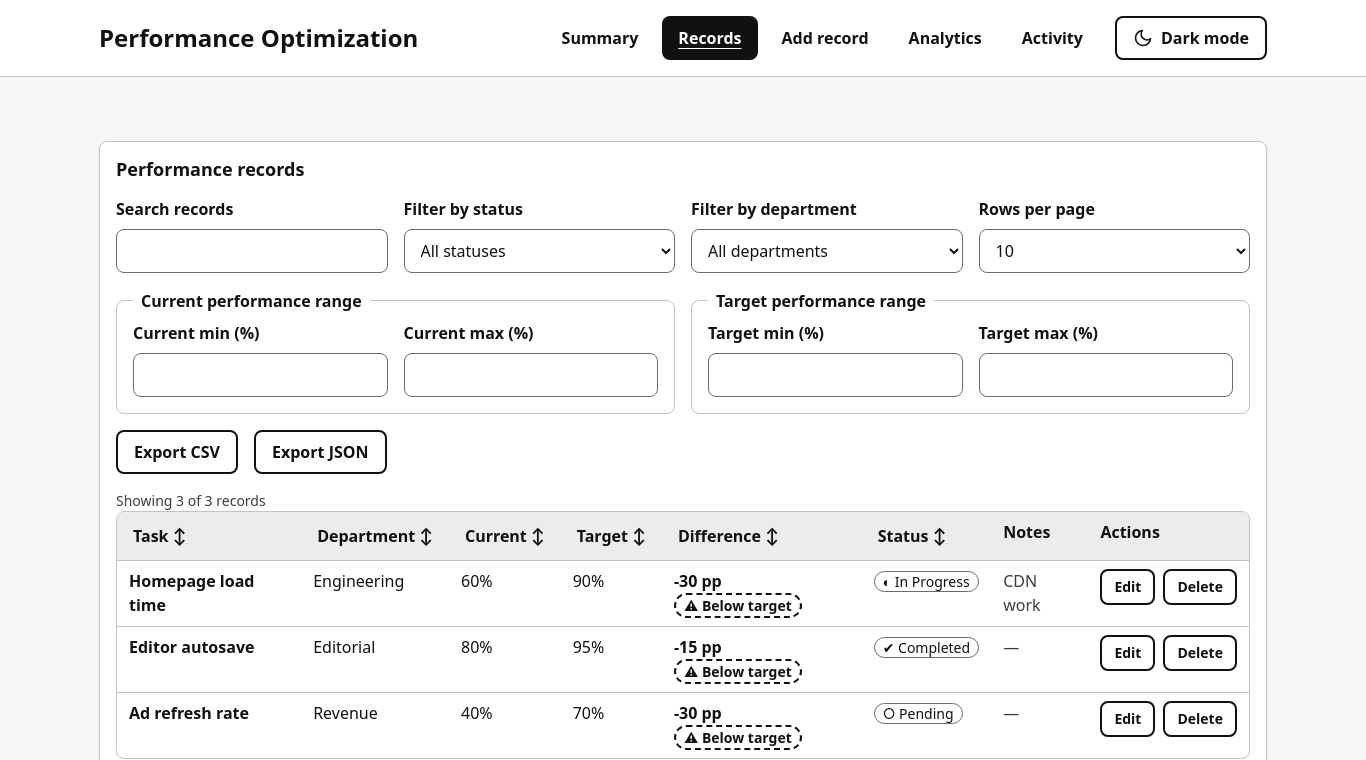
search, filter and sort › searches and shows empty state for no matches
Expected: the column heading "Homepage load time" is shown, [117,560,301,626]
Type "editor" into the search field labelled "Search records" at (252, 250), box [116,228,388,272]
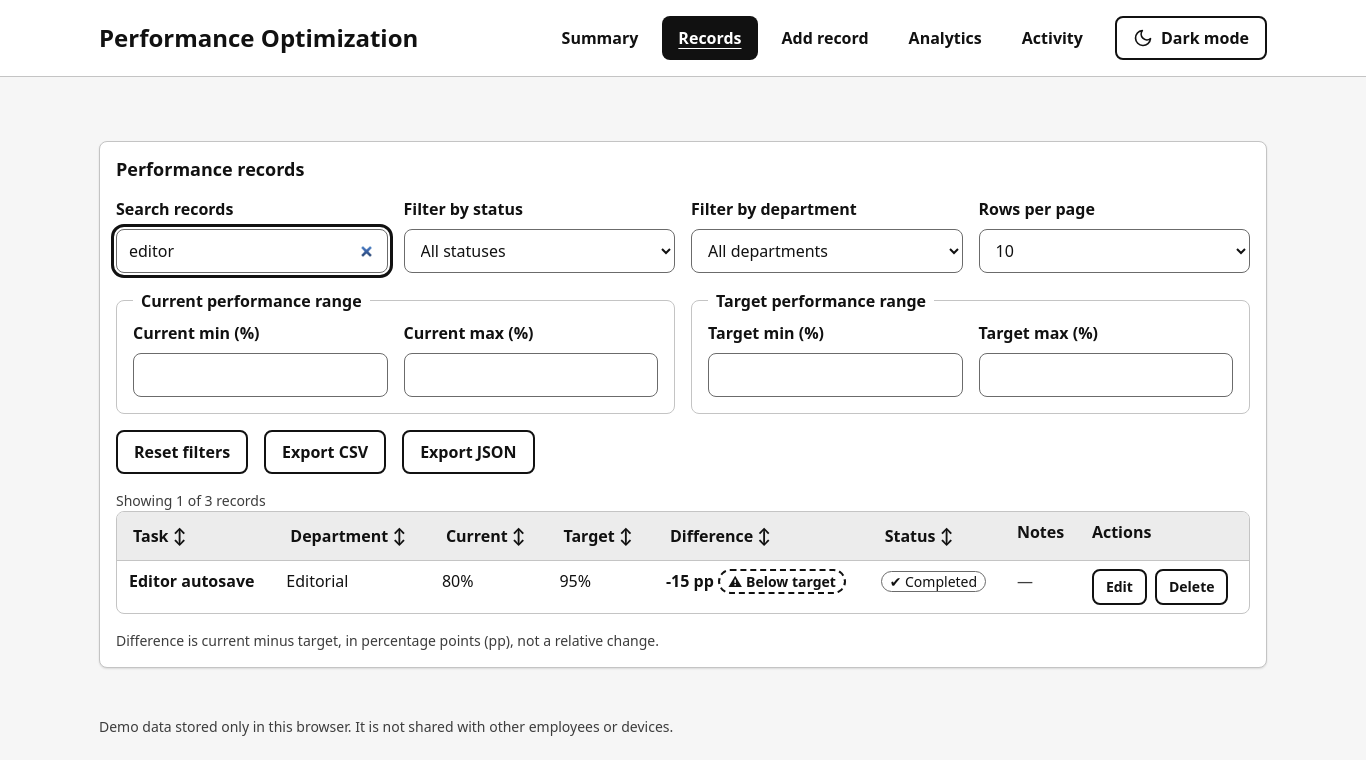
Expected: the column heading "Editor autosave" is shown, [117,560,274,612]
Expected: the column heading "Homepage load time" is gone
Replace the text in the search field labelled "Search records" with "zzzz" at (252, 250), box [116,228,388,272]
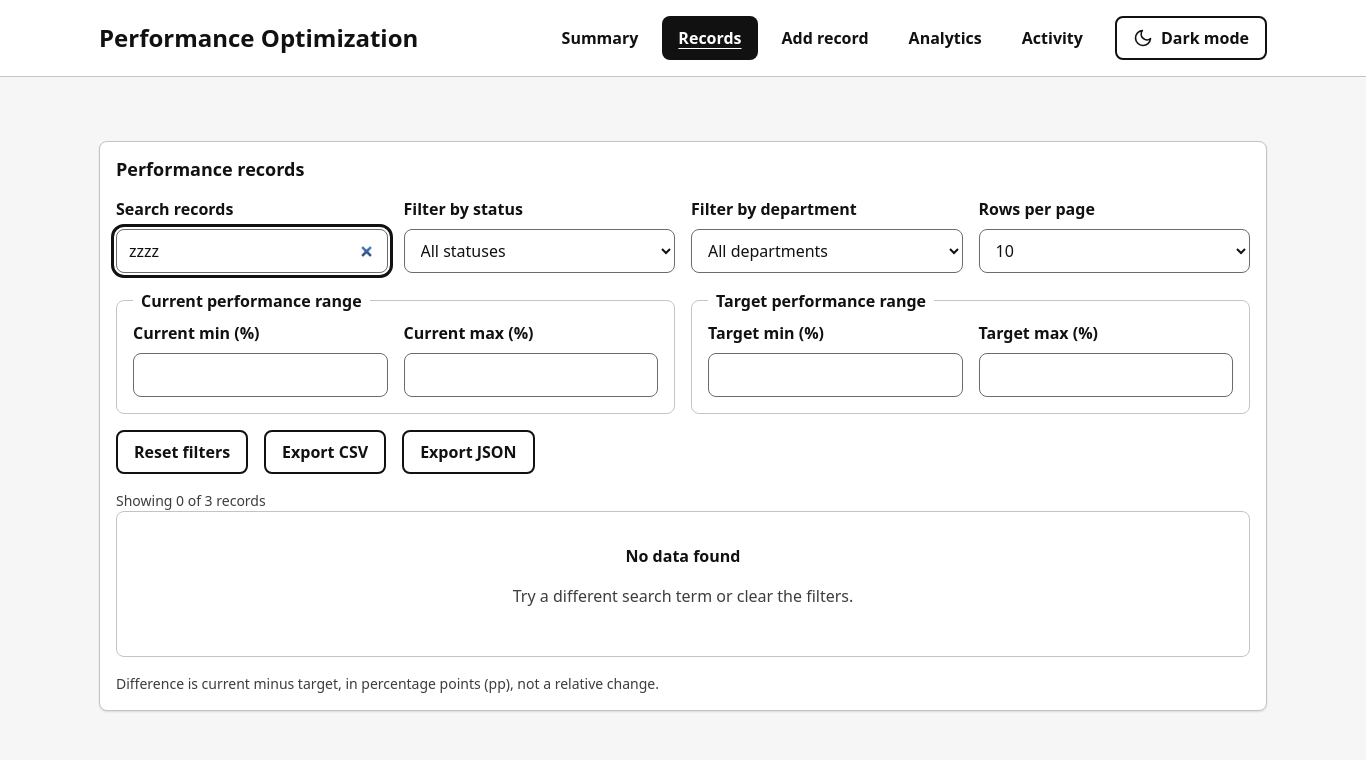
Expected: the text "No data found" is shown, [626,544,740,566]
